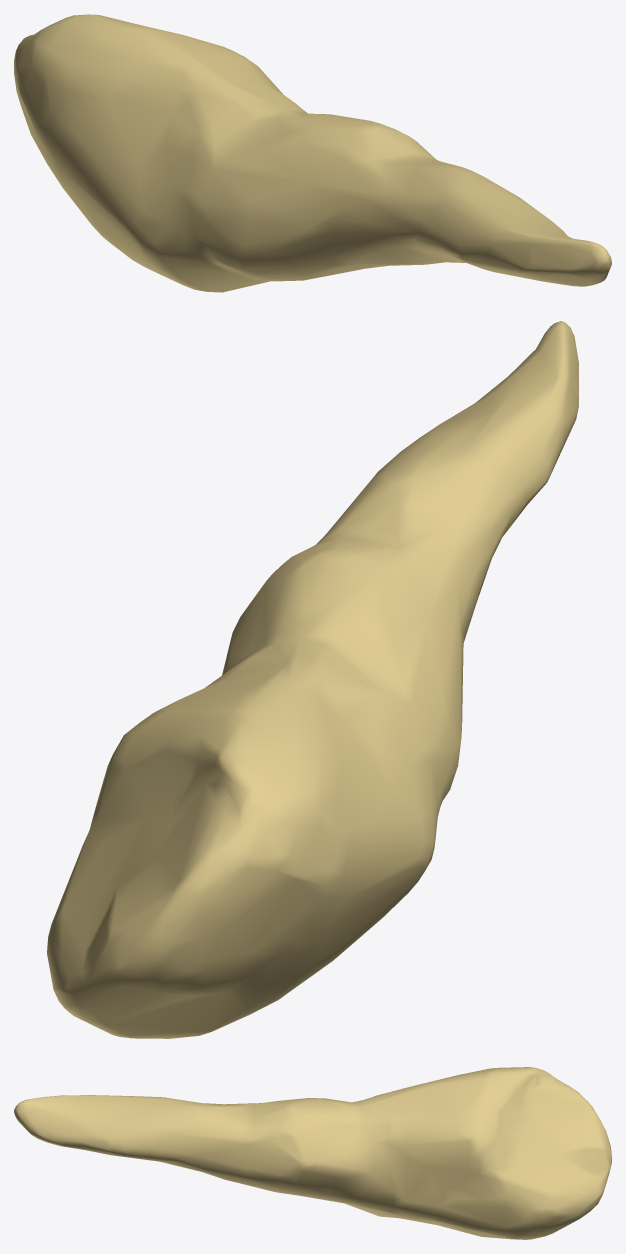
3 views of the same model, one above another, from view 1: azimuth 30°, elevation 25°; view 2: azimuth 150°, elevation 25°; view 3: azimuth 270°, elevation 25° (orthographic). The views are drawn at different scales.
Parts seen in each view (by area): view 1: 右侧上颌尖牙; view 2: 右侧上颌尖牙; view 3: 右侧上颌尖牙.
Boxes of the visible parts, bbox=[...] form: 右侧上颌尖牙: bbox=[14, 14, 611, 292]; 右侧上颌尖牙: bbox=[47, 321, 578, 1038]; 右侧上颌尖牙: bbox=[14, 1067, 611, 1239].
Bounding box in the file's own units: 0.0133 × 0.0134 × 0.0451.
